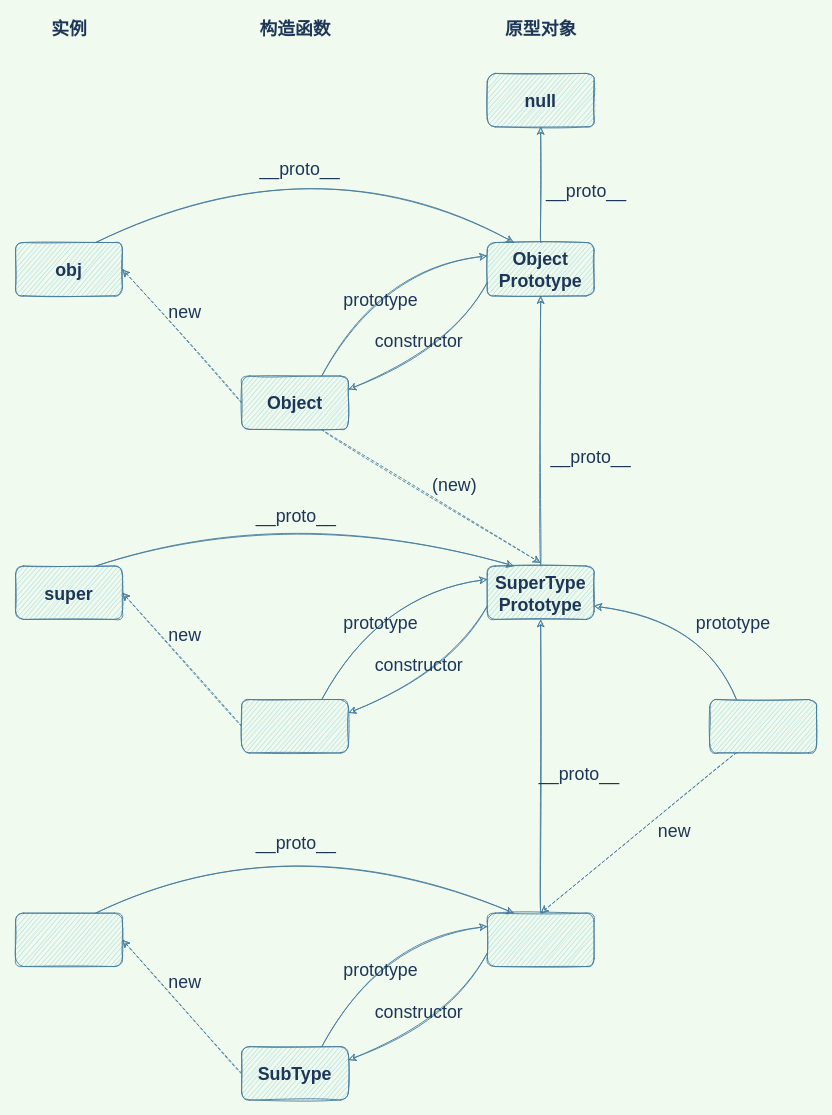
This 832x1115 diagram has some shape labels left out. Here are the shapes that lost their labels. From the top down, the centre of each, then its label:
At [294,726]: "SuperType".
At [763,726]: "(F)".
At [68,939]: "sub".
At [540,939]: "SubType Prototype".
